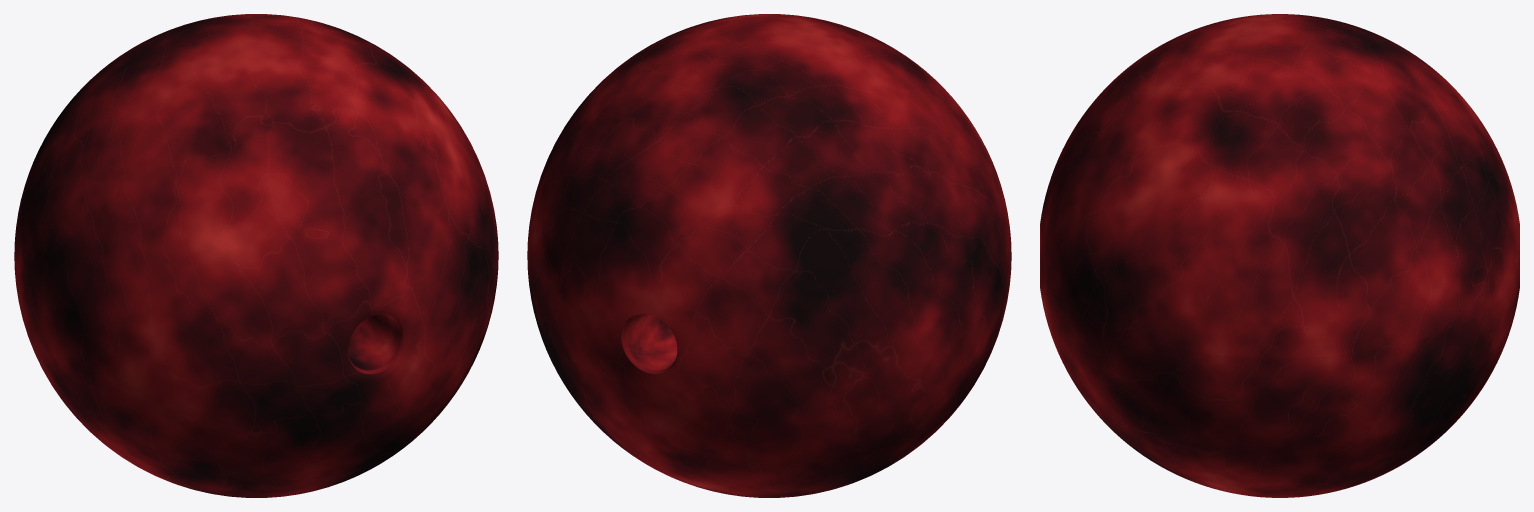
File: garnet.glb
3 views of the same model, side by side, from view 1: azimuth 30°, elevation 25°; view 2: azimuth 150°, elevation 25°; view 3: azimuth 270°, elevation 25° (orthographic).
Parts seen in each view (by area): view 1: garnet.001; view 2: garnet.001; view 3: garnet.001.
Part boxes in pixels (box(x1,y1,x2,y2)): garnet.001: box(14, 14, 498, 497); garnet.001: box(527, 14, 1011, 497); garnet.001: box(1040, 14, 1519, 497).
Bounding box in the file's own units: 0.008 × 0.008 × 0.00793.
Materials: 2 (1 with a texture image).
